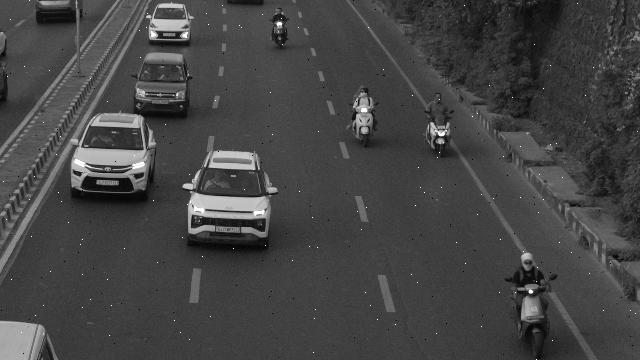Without Helmet: (514, 250, 540, 270), (432, 90, 444, 103), (359, 87, 368, 97), (276, 8, 282, 16)
